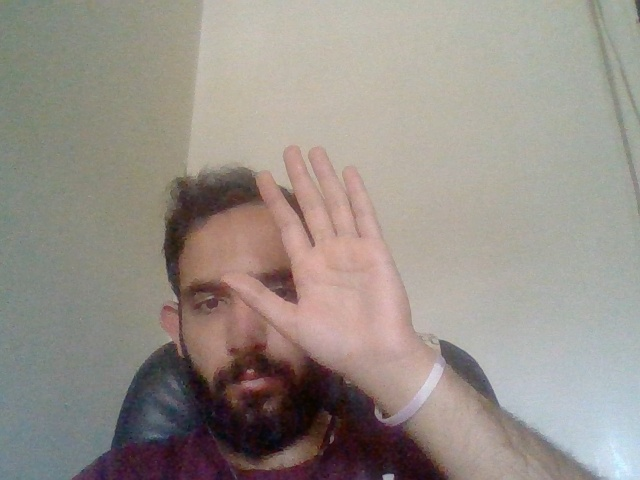Goodbye: (212, 140, 432, 395)
